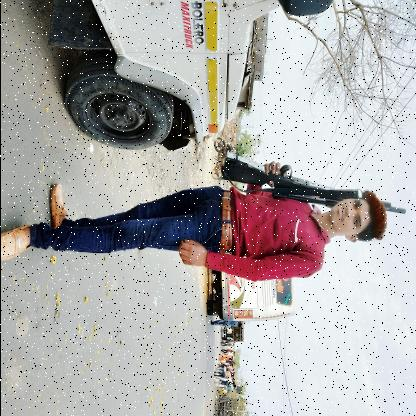rifle: (219, 148, 406, 216)
